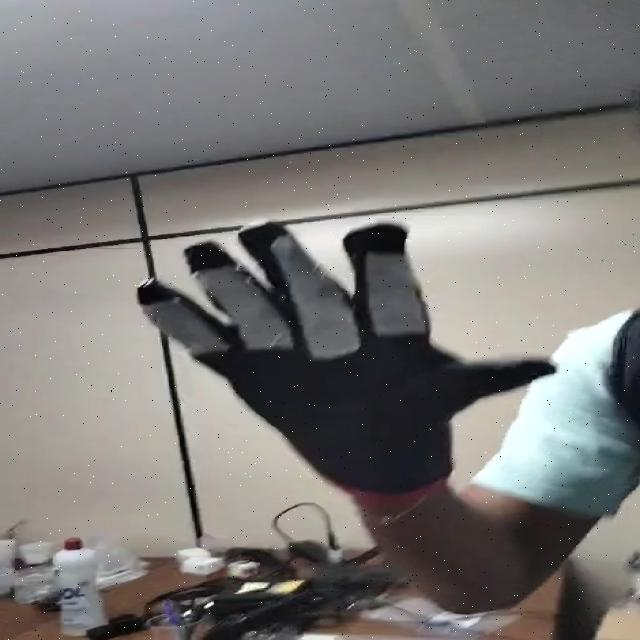Gloves: (118, 220, 557, 495)
